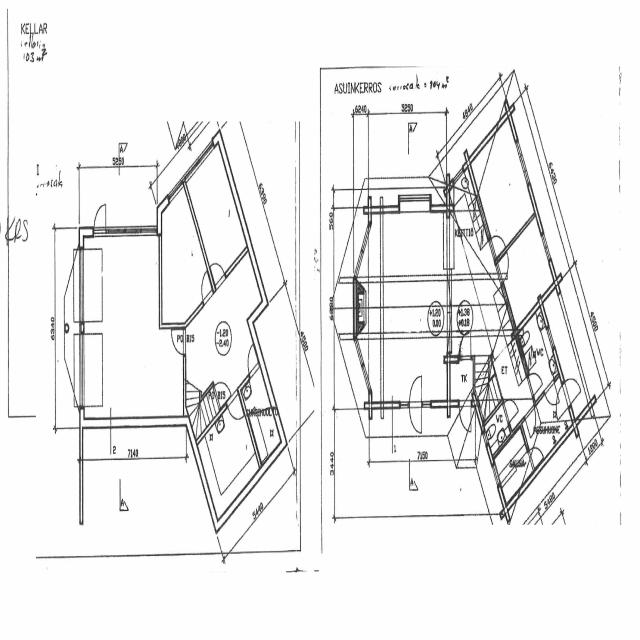door: (551, 382, 571, 420), (562, 370, 581, 408), (226, 389, 244, 428), (526, 364, 544, 398), (213, 374, 230, 409), (488, 228, 506, 260), (544, 379, 560, 414), (210, 255, 226, 289), (524, 404, 540, 438), (495, 253, 512, 285), (198, 271, 213, 306), (244, 345, 259, 378), (527, 440, 543, 470), (503, 392, 518, 424), (409, 375, 422, 407), (409, 400, 422, 432), (94, 202, 106, 235), (459, 400, 471, 432), (171, 330, 186, 354), (460, 332, 470, 360)
